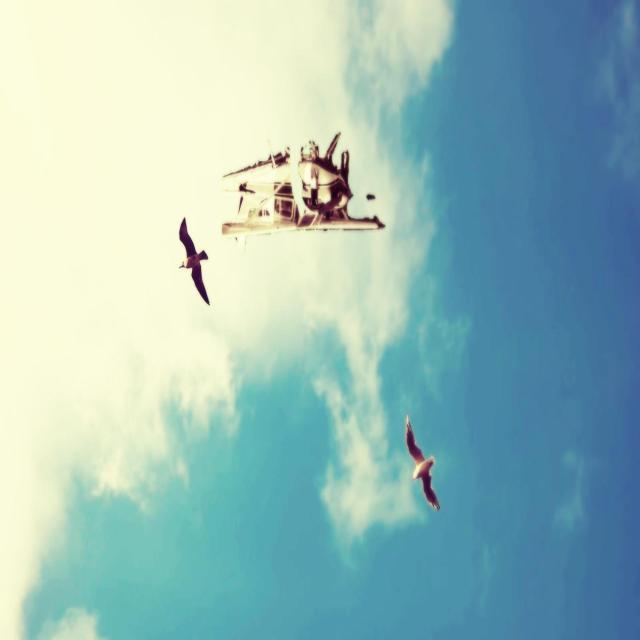airplane: (220, 130, 386, 249)
